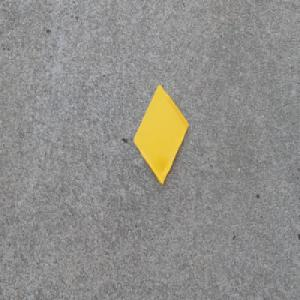PlasticPart: (132, 83, 188, 186)
